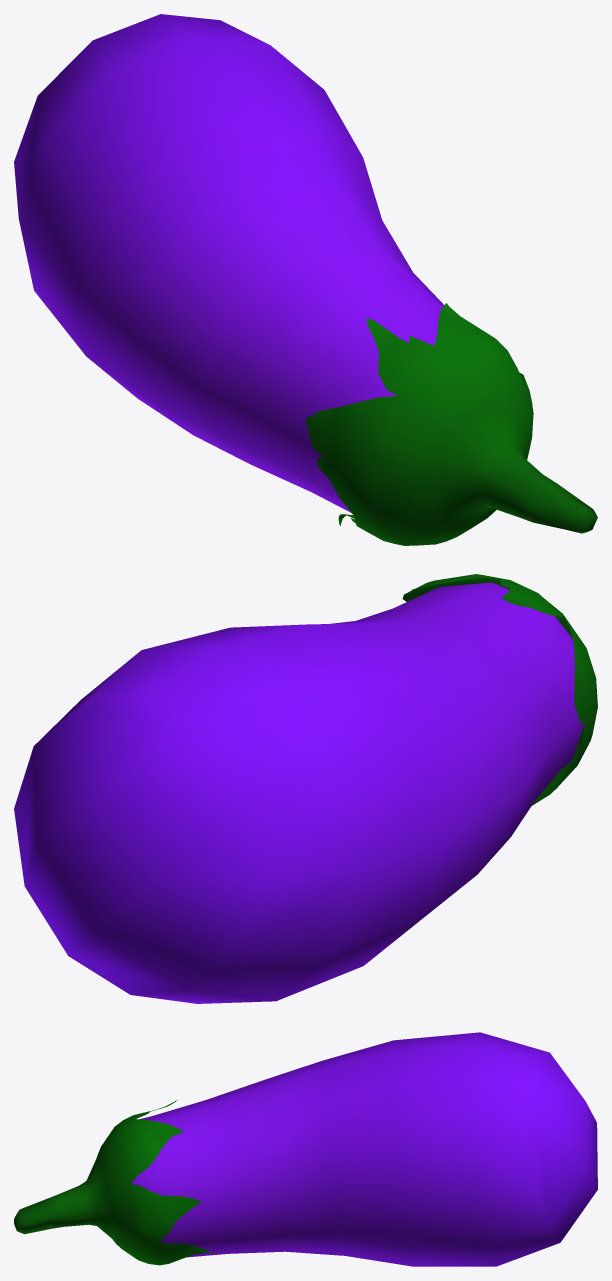
File: Eggplant.fbx
The picture shows the model from 3 angles, top to bottom: view 1: azimuth 30°, elevation 25°; view 2: azimuth 150°, elevation 25°; view 3: azimuth 270°, elevation 25°; orthographic projection. The views are drawn at different scales.
Visible parts, largest first — view 1: Eggplant; view 2: Eggplant; view 3: Eggplant.
Part boxes in pixels (x1,y1,x2,y2): Eggplant: (14,14,597,545); Eggplant: (14,574,597,1003); Eggplant: (14,1032,597,1266).
Size of the model in its own units: 417 by 413 by 992.
